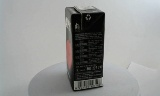appy: (60, 4, 98, 92)
